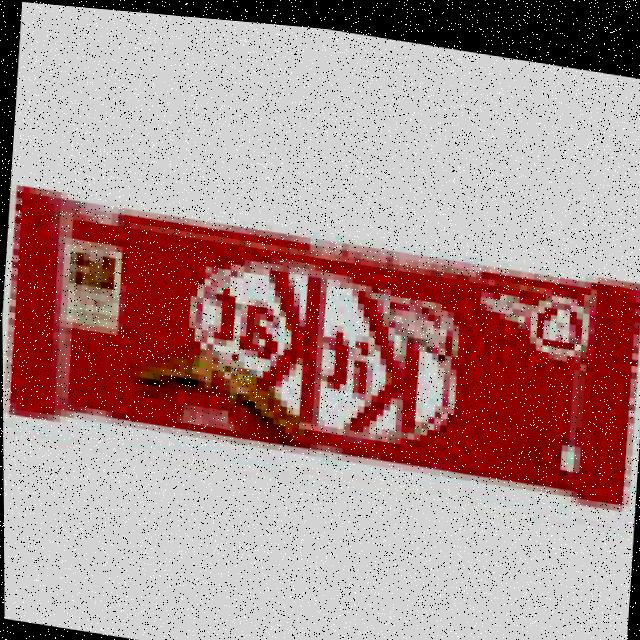kitkat: (1, 186, 640, 508)
